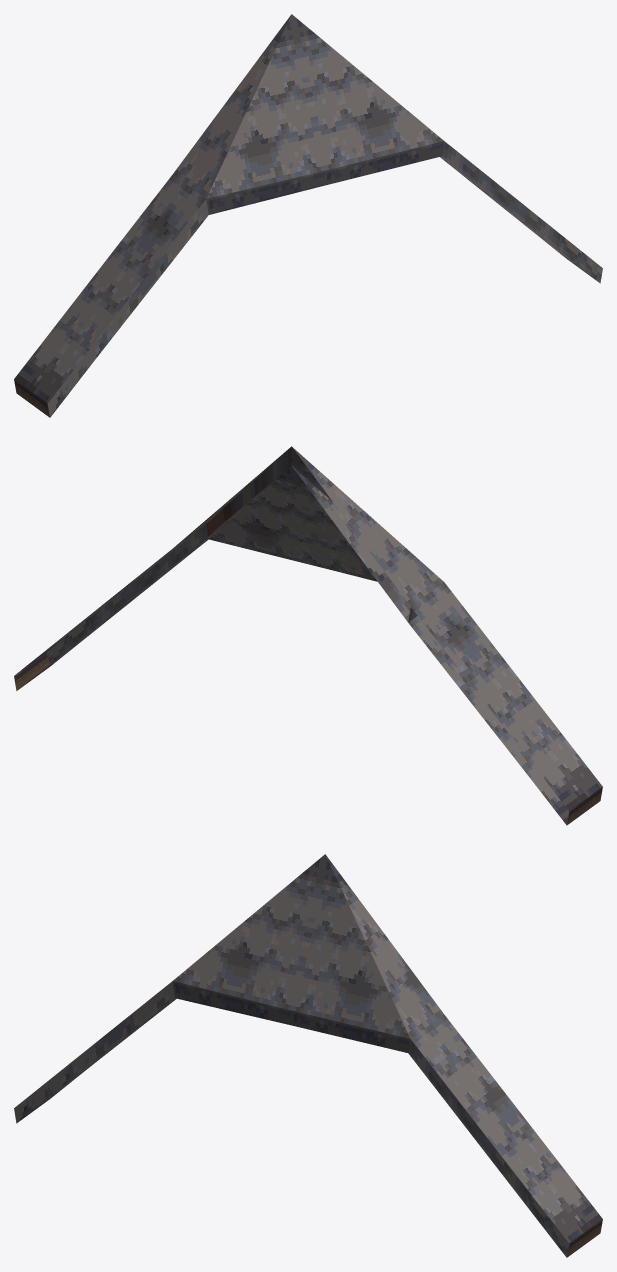
Rendered from roof_blue_end.glb.
3 views of the same model, one above another, from view 1: azimuth 30°, elevation 25°; view 2: azimuth 150°, elevation 25°; view 3: azimuth 330°, elevation 25° (orthographic).
Parts seen in each view (by area): view 1: roof_blue_end; view 2: roof_blue_end; view 3: roof_blue_end.
Boxes of the visible parts, x1,y1,x2,y2 form: roof_blue_end: (14,14,602,417); roof_blue_end: (14,446,602,825); roof_blue_end: (14,854,602,1257).
Bounding box in the file's own units: 5.96 × 3.2 × 0.625.
1 material, 1 textured.
